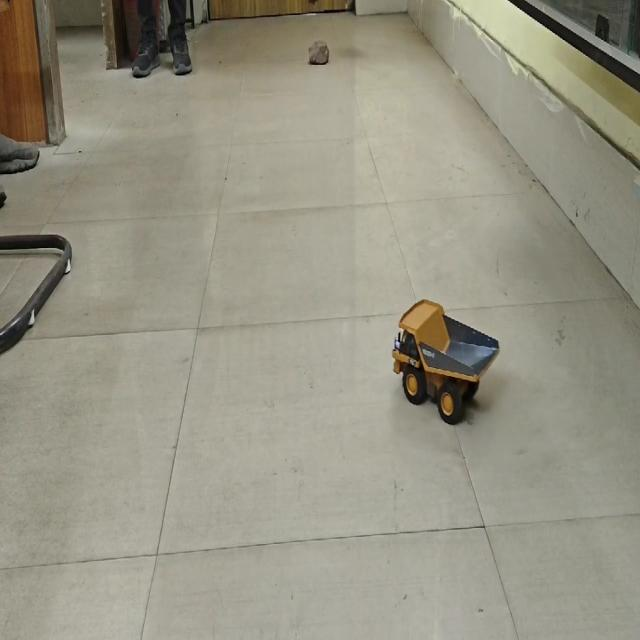dump_truck: (395, 291, 500, 420)
